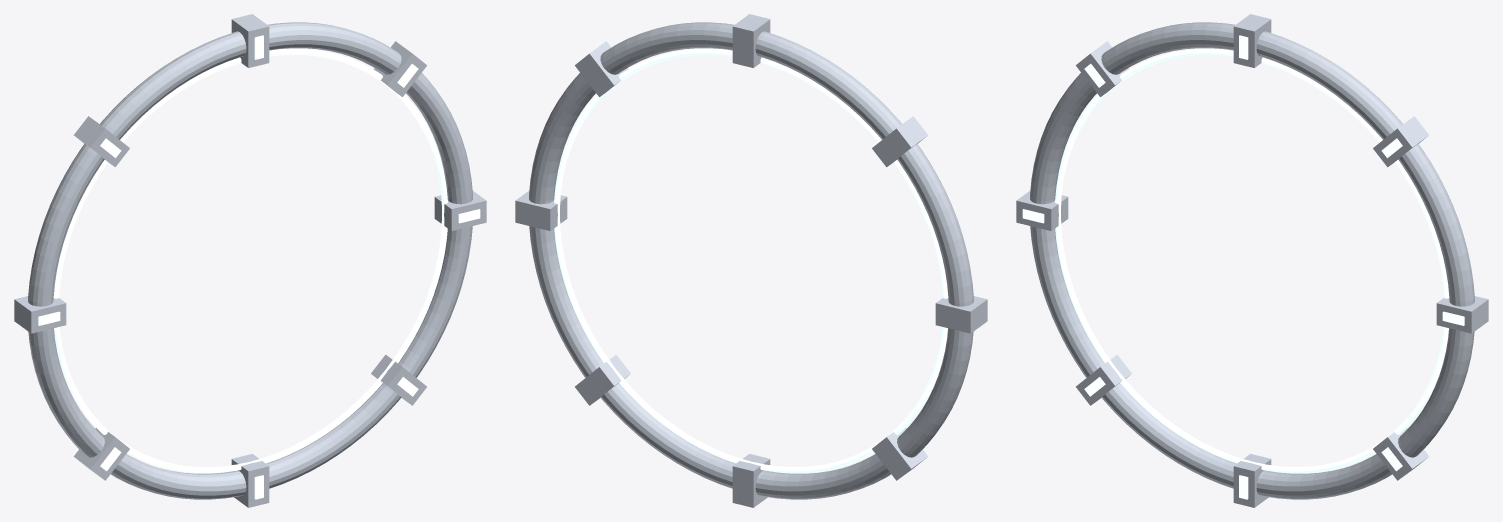
The model's file is gate.glb.
3 renders of one model, left to right at view 1: azimuth 30°, elevation 25°; view 2: azimuth 150°, elevation 25°; view 3: azimuth 330°, elevation 25°, orthographic.
Visible parts, largest first — view 1: gate; view 2: gate; view 3: gate.
Boxes of the visible parts, x1=… form: gate: x1=14, y1=14, x2=486, y2=507; gate: x1=515, y1=14, x2=987, y2=507; gate: x1=1016, y1=14, x2=1488, y2=507.
Size of the model in its own units: 6.5 by 6.5 by 0.44.
